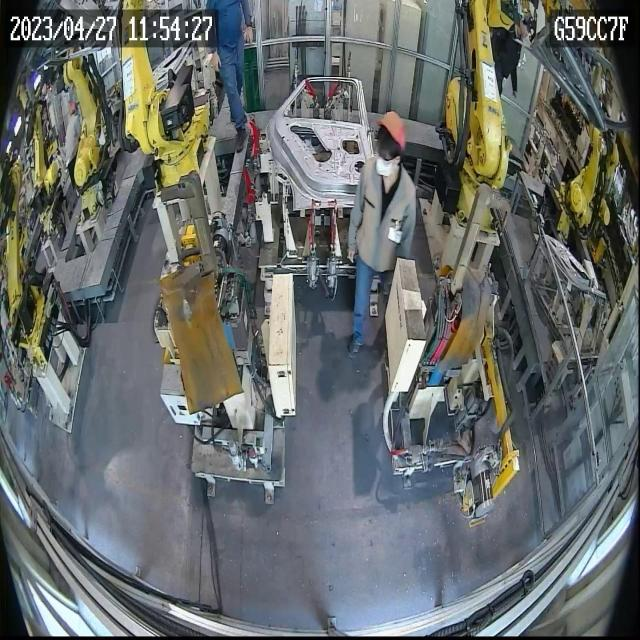Person: (346, 110, 416, 359), (205, 0, 253, 152), (486, 0, 527, 98), (64, 99, 82, 197)
